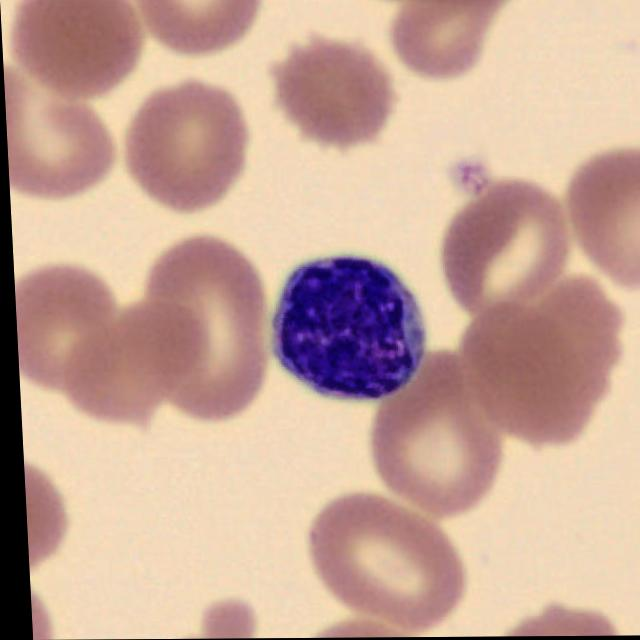Linfocito: (267, 258, 425, 405)
